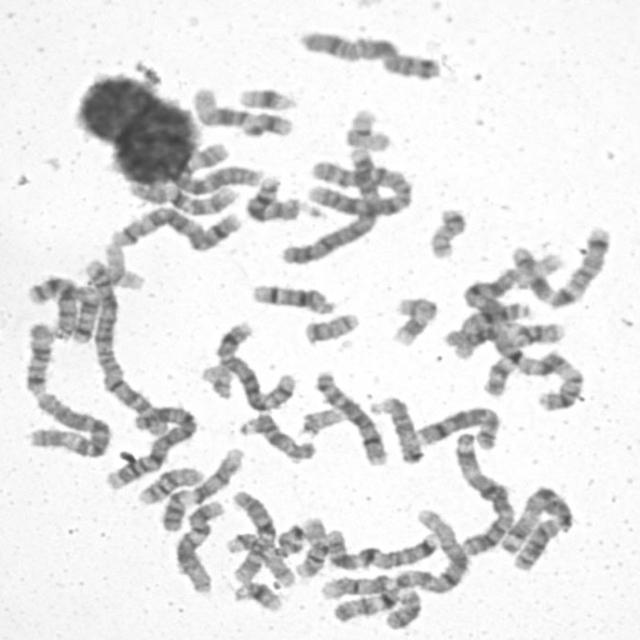A1: (324, 504, 473, 626), (458, 252, 564, 402)
A2: (76, 253, 172, 437), (304, 155, 416, 219)
A3: (450, 428, 519, 558), (496, 482, 578, 575)
B4: (276, 146, 384, 268), (101, 401, 200, 492)
B5: (211, 318, 299, 412), (103, 204, 246, 254)
C10: (228, 486, 280, 585), (124, 178, 241, 216)
C11: (442, 316, 568, 352), (513, 352, 584, 413)
C12: (187, 83, 296, 139), (170, 496, 227, 595)
C6: (24, 393, 113, 462), (172, 142, 264, 196)
C7: (510, 222, 613, 310), (322, 524, 441, 574)
C8: (310, 366, 390, 467), (412, 402, 503, 452)
C9: (156, 442, 247, 534), (318, 574, 424, 633)
D13: (21, 270, 81, 342), (242, 172, 305, 224)
D14: (452, 302, 536, 362), (246, 278, 338, 316)
D15: (234, 409, 320, 464), (366, 392, 427, 466)
E16: (134, 463, 205, 507), (290, 513, 330, 579)
E17: (222, 528, 298, 588), (388, 292, 440, 348)
E18: (68, 281, 102, 345), (24, 322, 53, 396)
F19: (341, 104, 393, 154), (99, 238, 147, 292)
F20: (425, 203, 469, 260), (300, 307, 362, 346)
G21: (234, 82, 300, 114), (230, 578, 286, 614)
G22: (296, 402, 348, 438), (196, 359, 236, 401)
X: (294, 25, 444, 83)
Y: (276, 523, 304, 555)
